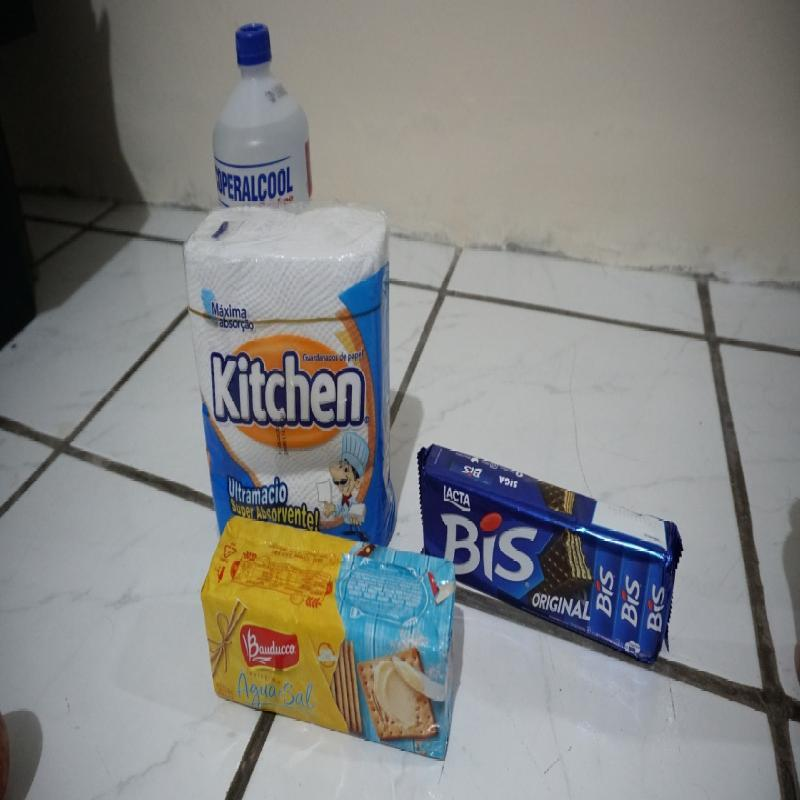Alcohol Bottle: (203, 22, 320, 198)
Cracker: (201, 520, 460, 754)
Napkin: (186, 204, 396, 518)
